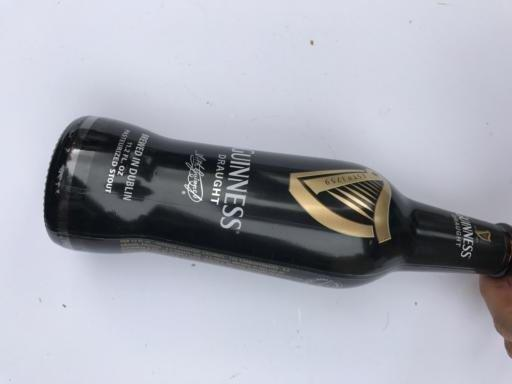botolkaca: (42, 115, 512, 289)
